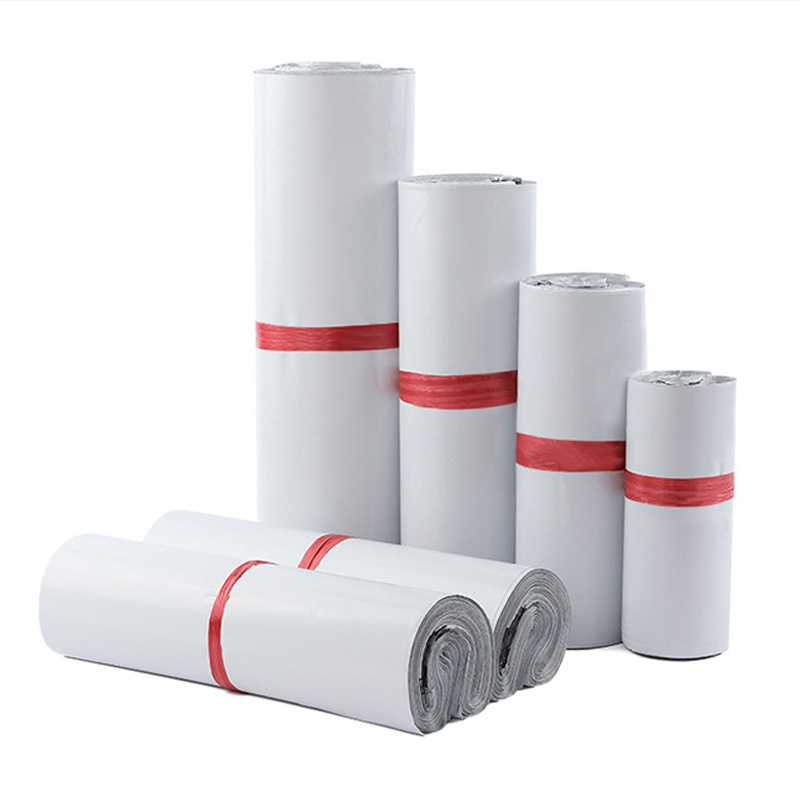塑料袋: (39, 64, 735, 733)
